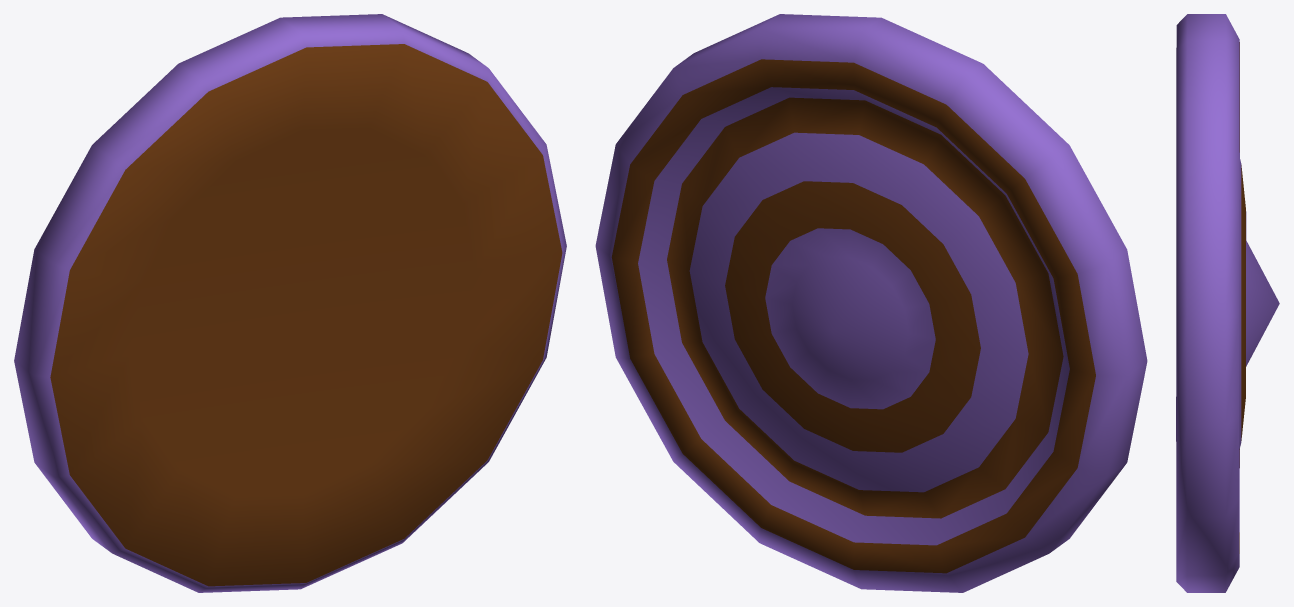
File: Shield.fbx
3 views of the same model, side by side, from view 1: azimuth 30°, elevation 25°; view 2: azimuth 150°, elevation 25°; view 3: azimuth 270°, elevation 25° (orthographic). The views are drawn at different scales.
Visible parts, largest first — view 1: Shield; view 2: Shield; view 3: Shield.
Part boxes in pixels (x1=…): Shield: x1=14, y1=14, x2=566, y2=592; Shield: x1=595, y1=14, x2=1147, y2=592; Shield: x1=1176, y1=14, x2=1279, y2=592.
Bounding box in the file's own units: 4.7 × 4.7 × 0.8408.
